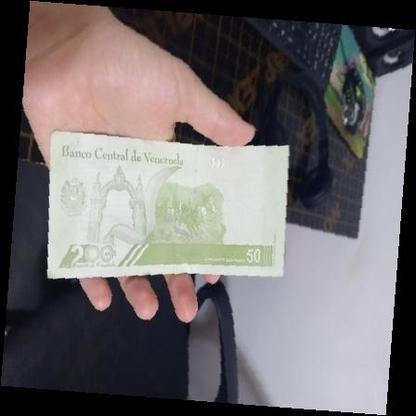fifty-back-vef: (47, 130, 289, 279)
